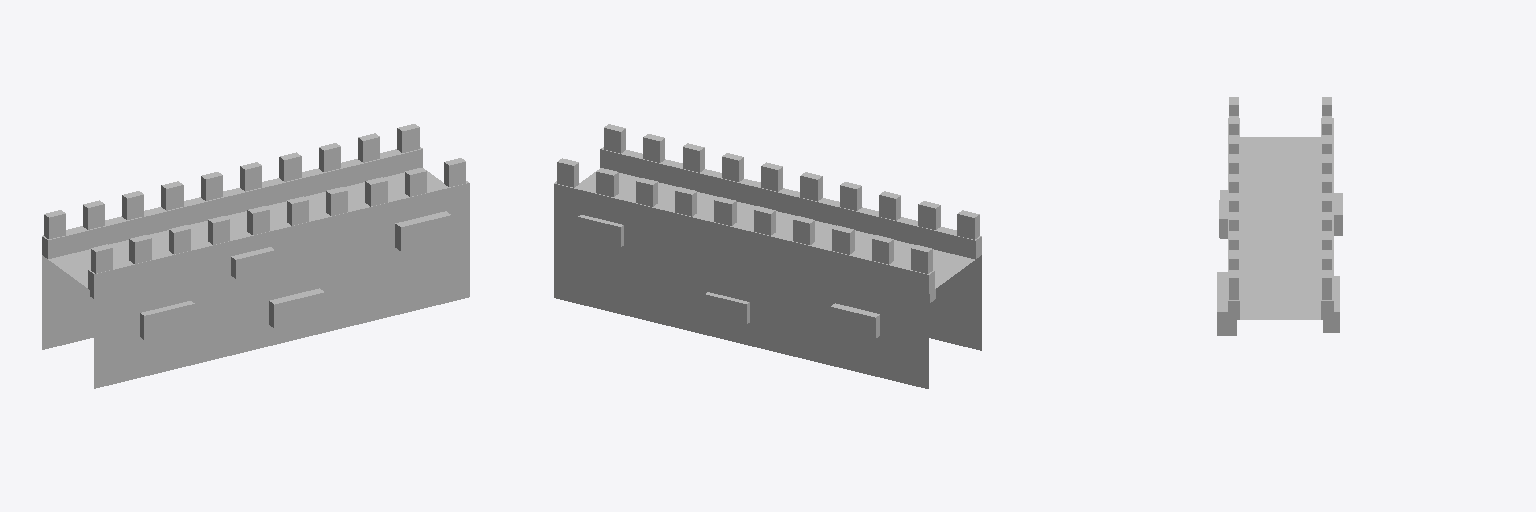
File: greatwall1.obj
3 renders of one model, left to right at view 1: azimuth 30°, elevation 25°; view 2: azimuth 150°, elevation 25°; view 3: azimuth 270°, elevation 25°, orthographic.
Visible parts, largest first — view 1: pCube72; view 2: pCube72; view 3: pCube72.
Part boxes in pixels (x1,y1,x2,y2): pCube72: (42,124,469,388); pCube72: (554,124,981,388); pCube72: (1217,97,1342,335).
Bounding box in the file's own units: 21.87 × 7.59 × 6.35.